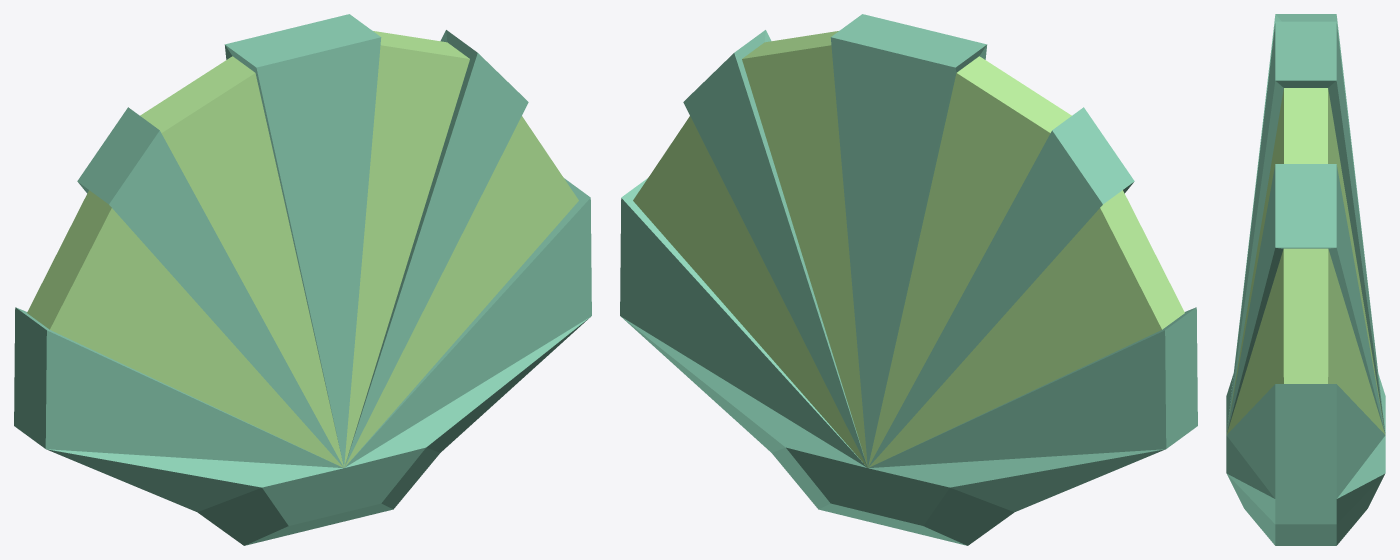
Rendered from Seashell 2 CYAN.fbx.
3 views of the same model, side by side, from view 1: azimuth 30°, elevation 25°; view 2: azimuth 150°, elevation 25°; view 3: azimuth 270°, elevation 25° (orthographic). The views are drawn at different scales.
Visible parts, largest first — view 1: Object001; view 2: Object001; view 3: Object001.
Boxes of the visible parts, x1,y1,x2,y2 form: Object001: (14, 14, 591, 545); Object001: (620, 14, 1197, 545); Object001: (1226, 14, 1385, 545).
Size of the model in its own units: 33.15 by 27.56 by 8.65.
Materials: 1 (1 with a texture image).
